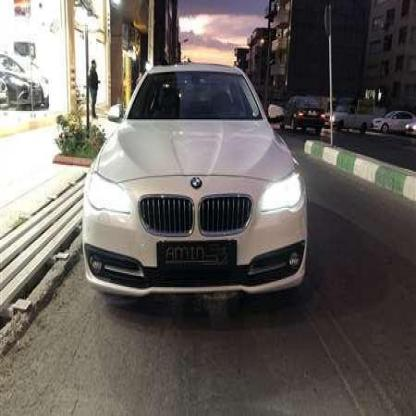Car: (84, 65, 311, 312), (328, 93, 373, 136), (0, 62, 40, 107), (282, 100, 324, 136), (374, 112, 412, 136), (408, 121, 416, 137)
